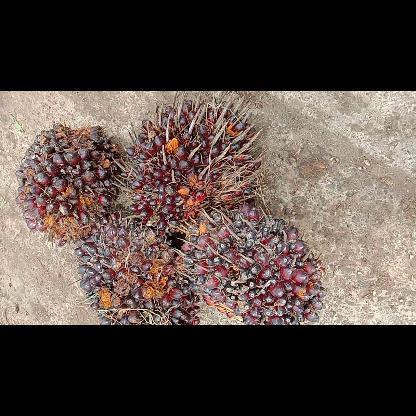Kurang masak: (116, 97, 264, 236), (174, 200, 328, 324), (74, 212, 206, 324), (14, 119, 126, 248)
